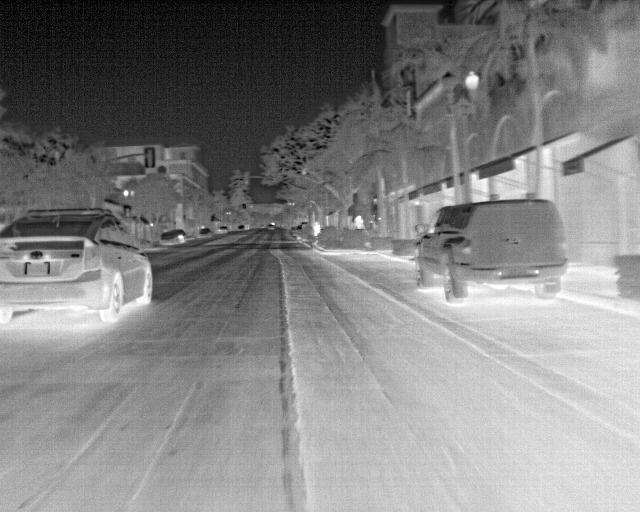bicycle: (2, 205, 158, 327), (414, 195, 572, 304), (158, 232, 181, 248), (196, 225, 213, 238), (174, 228, 188, 241), (216, 224, 231, 236)
empty: (312, 219, 324, 237)
